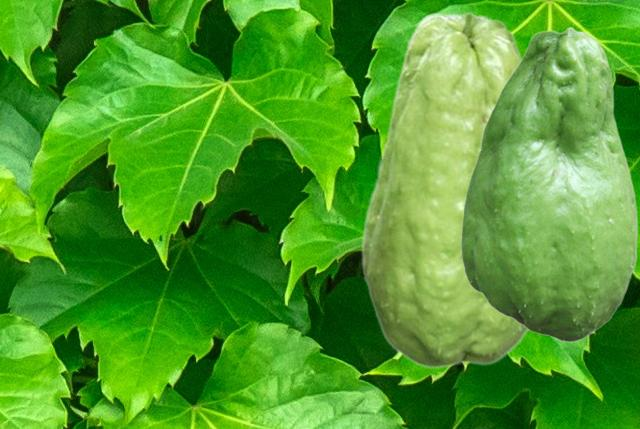sayote: (360, 11, 528, 369), (460, 26, 637, 341)
